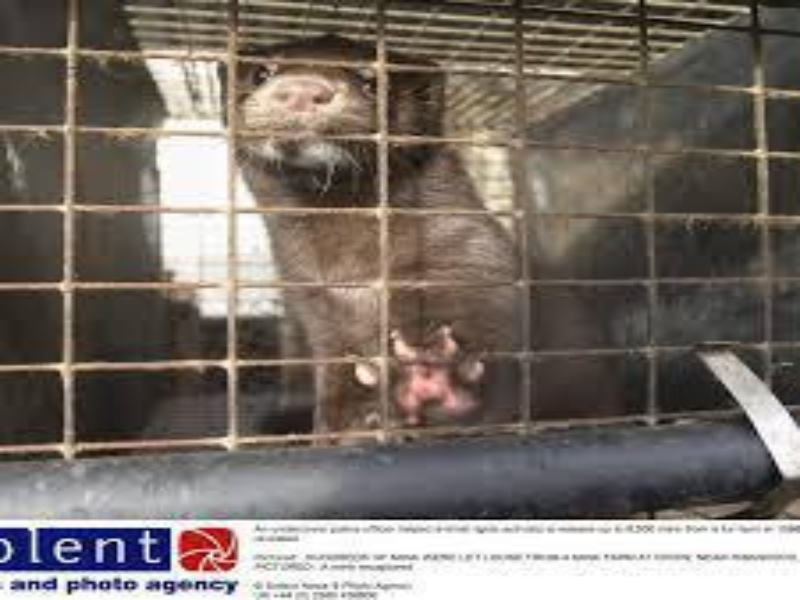minkish: (214, 30, 655, 439)
